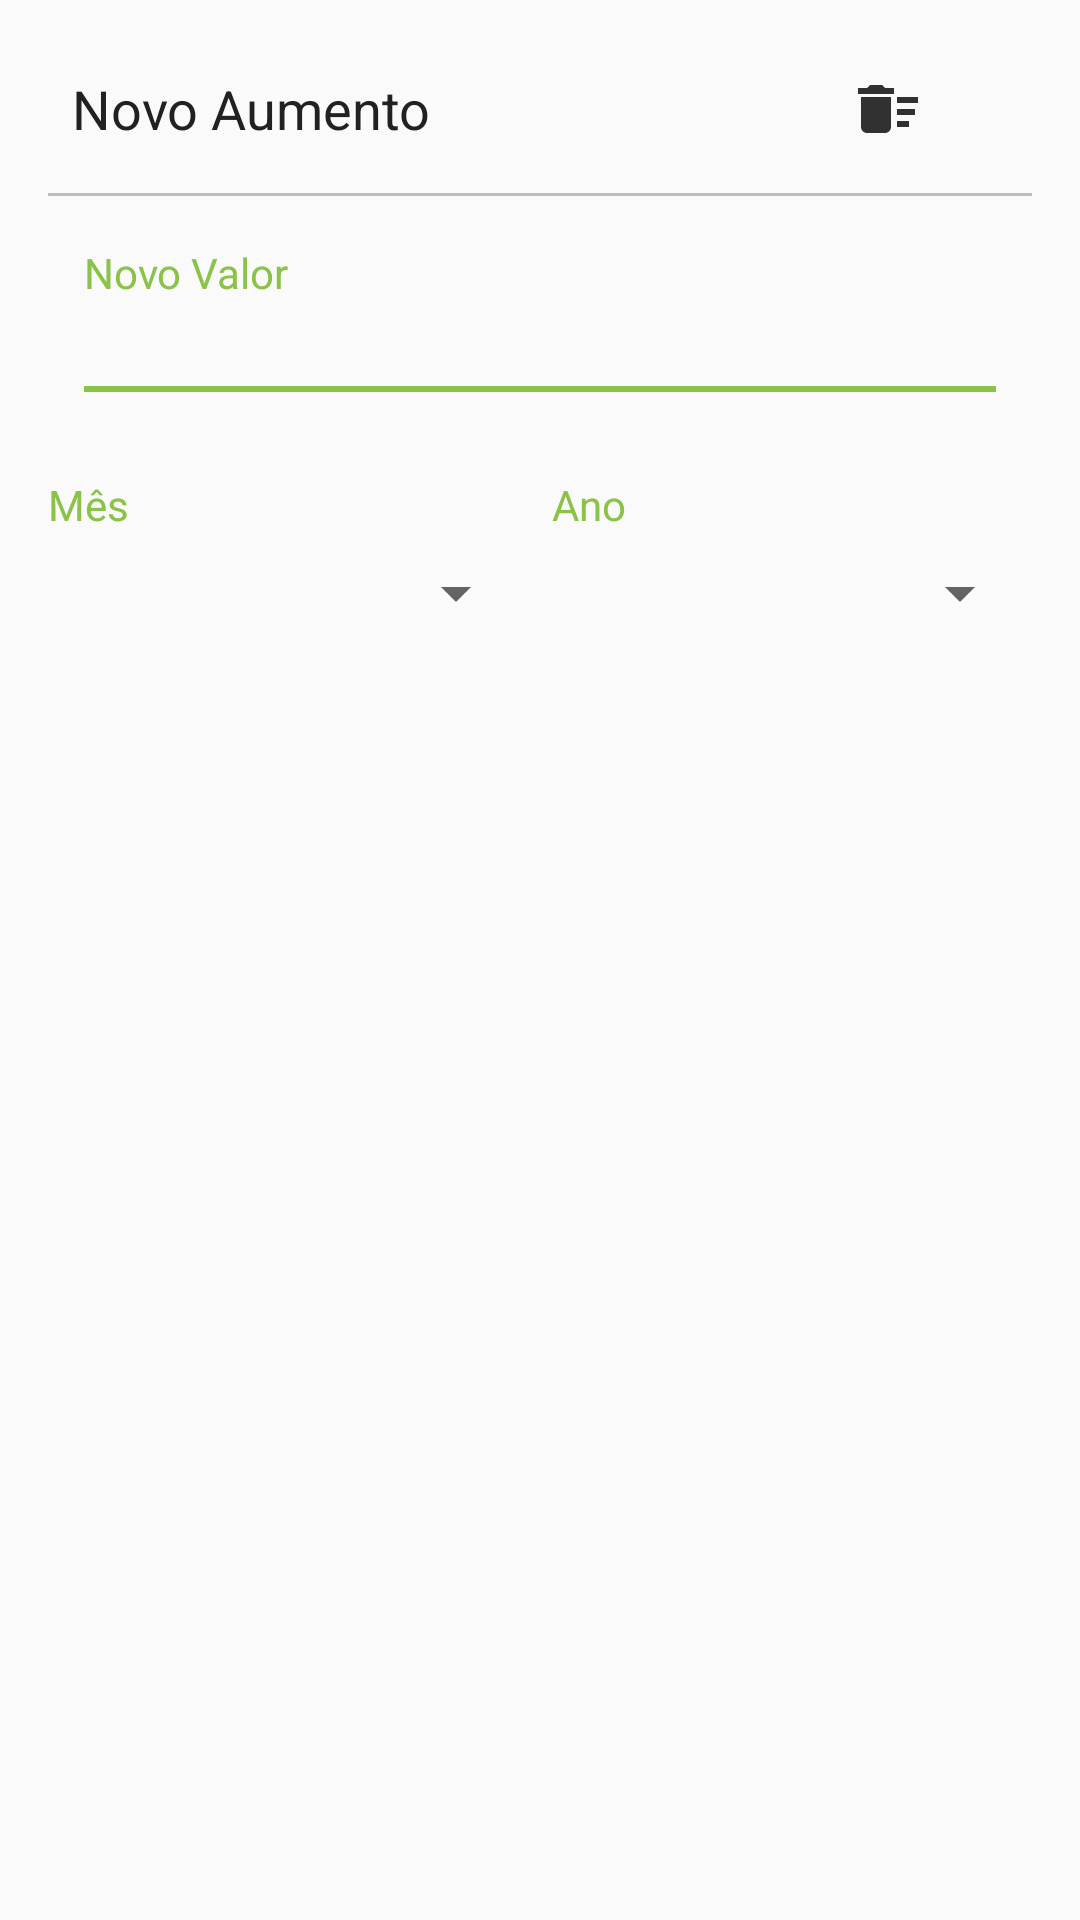

Named icons in this screenshot (1080 x 1920) and their centers, (x,y):
clean: (888,109)
